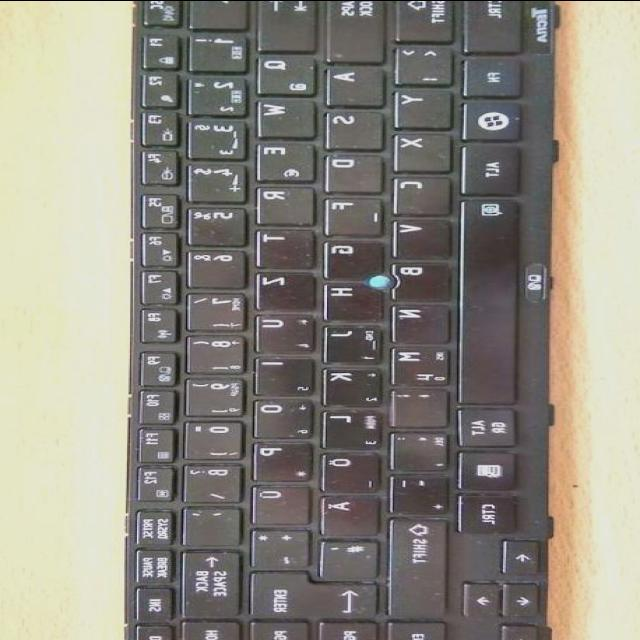0: (176, 416, 240, 457)
1: (183, 29, 245, 69)
2: (182, 72, 244, 114)
3: (180, 114, 242, 156)
4: (180, 159, 243, 199)
5: (182, 203, 244, 243)
6: (180, 246, 243, 284)
7: (180, 289, 243, 329)
8: (180, 331, 242, 371)
9: (179, 374, 242, 414)
a: (319, 63, 381, 103)
accent: (176, 503, 238, 543)
ae: (314, 492, 376, 534)
alt-left: (453, 140, 517, 193)
altgr-right: (450, 404, 513, 445)
b: (385, 258, 449, 298)
c: (387, 173, 447, 213)
caret: (183, 0, 244, 24)
comma: (384, 385, 446, 423)
d: (319, 149, 381, 189)
del: (175, 546, 239, 616)
e: (250, 138, 313, 179)
enter: (241, 568, 375, 616)
f: (317, 194, 379, 232)
g: (317, 237, 380, 275)
h: (317, 280, 379, 318)
hash: (313, 536, 375, 576)
i: (248, 353, 311, 393)
j: (317, 321, 380, 361)
k: (316, 365, 379, 403)
keyboard: (114, 0, 561, 640)
l: (316, 406, 380, 446)
less: (387, 41, 449, 82)
m: (385, 343, 449, 383)
minus: (383, 470, 446, 510)
n: (384, 300, 447, 340)
o: (248, 394, 311, 434)
oe: (316, 449, 378, 489)
p: (246, 437, 309, 478)
plus: (245, 525, 307, 565)
point: (383, 428, 446, 468)
q: (250, 51, 313, 93)
r: (250, 182, 312, 222)
s: (319, 106, 381, 147)
shift-left: (390, 0, 453, 38)
shift-lock: (318, 0, 381, 58)
shift-right: (380, 512, 444, 614)
space: (453, 195, 516, 401)
ss: (176, 460, 239, 500)
strg-left: (456, 0, 519, 48)
strg-right: (450, 491, 514, 531)
t: (249, 226, 312, 266)
tab: (250, 1, 313, 47)
u: (249, 310, 312, 350)
ue: (245, 480, 308, 522)
v: (386, 216, 448, 256)
w: (249, 95, 313, 135)
x: (387, 128, 447, 169)
y: (387, 85, 449, 125)
z: (250, 269, 313, 307)
